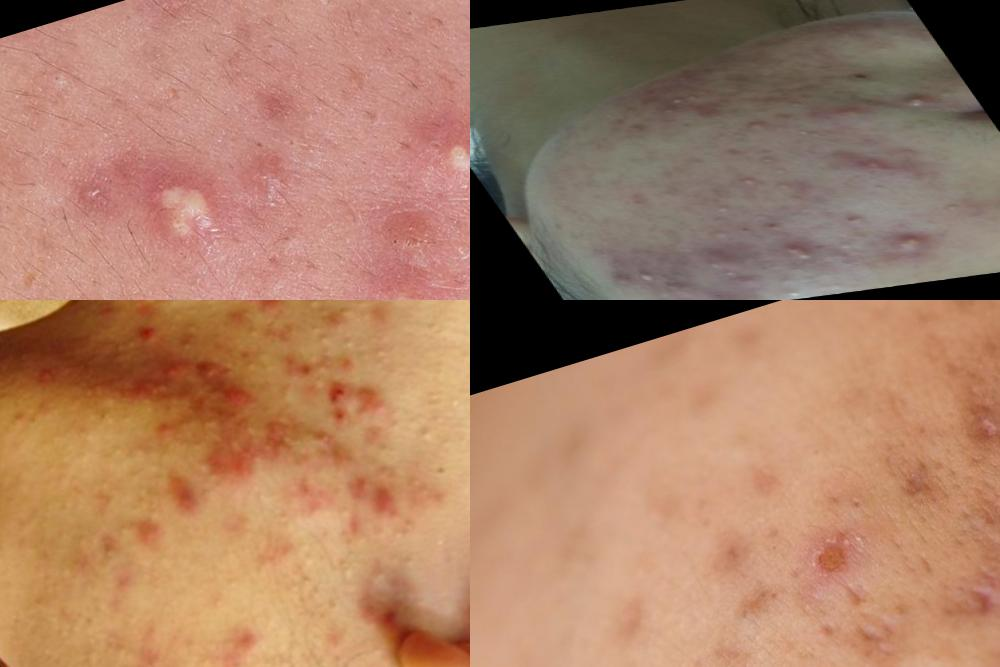cystic: (683, 248, 768, 292)
papular: (207, 610, 271, 663), (201, 370, 259, 425), (160, 467, 212, 523), (317, 368, 357, 425), (368, 484, 412, 530), (131, 311, 177, 355), (365, 599, 412, 641), (152, 344, 195, 388), (724, 115, 795, 140), (819, 101, 881, 126), (137, 514, 172, 553), (233, 301, 303, 320), (610, 115, 663, 139), (357, 383, 392, 418), (757, 218, 797, 236)
purulent: (431, 122, 471, 187), (652, 89, 717, 117), (774, 240, 830, 271), (719, 169, 777, 193), (700, 196, 749, 224), (897, 88, 945, 116), (881, 231, 929, 255), (630, 264, 677, 285)
sebo-crystan-conglo: (139, 154, 225, 261), (840, 150, 909, 179)
whitehead: (399, 406, 445, 451), (327, 547, 364, 595), (102, 429, 142, 467), (72, 630, 112, 667), (438, 375, 469, 418), (360, 559, 400, 592), (390, 544, 425, 580), (786, 123, 836, 148), (929, 193, 977, 219), (267, 373, 305, 405), (822, 237, 870, 261), (331, 327, 366, 359), (368, 339, 403, 370), (232, 316, 266, 346), (295, 580, 327, 610), (767, 283, 815, 301), (926, 85, 966, 102), (752, 154, 795, 169), (297, 301, 337, 316), (886, 27, 918, 45), (353, 657, 395, 667)
